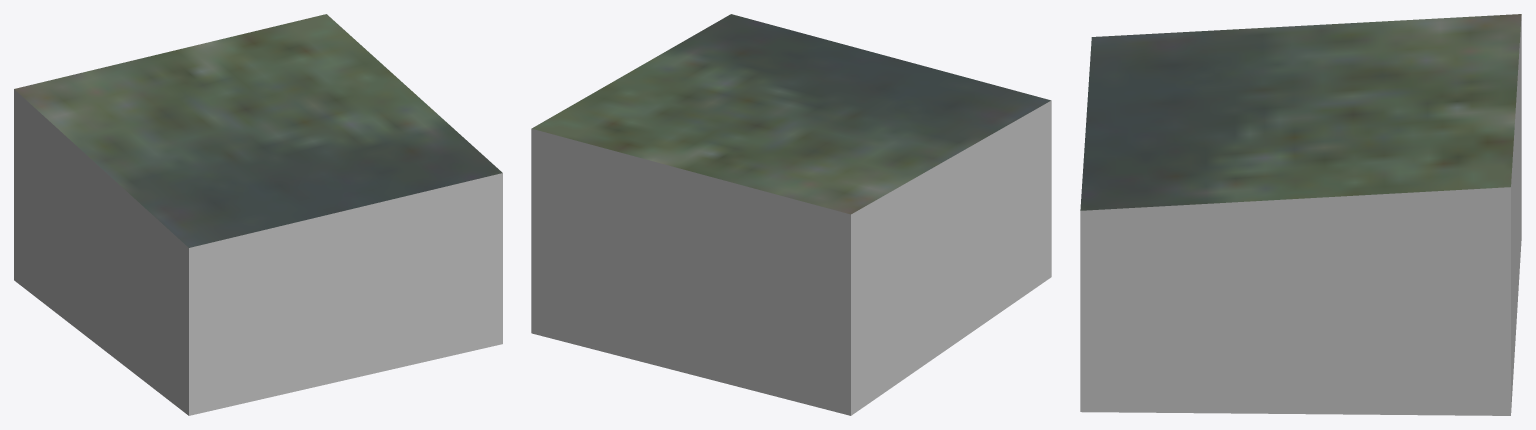
Rendered from DEBW_0010007Txf2.gltf.
3 renders of one model, left to right at view 1: azimuth 30°, elevation 25°; view 2: azimuth 150°, elevation 25°; view 3: azimuth 270°, elevation 25°, orthographic. The views are drawn at different scales.
Parts seen in each view (by area): view 1: Z_UP; view 2: Z_UP; view 3: Z_UP.
Boxes of the visible parts, x1,y1,x2,y2 form: Z_UP: (14,14,502,415); Z_UP: (531,14,1051,415); Z_UP: (1080,14,1521,415).
Size of the model in its own units: 5.66 by 3.33 by 5.82.
Materials: 2 (1 with a texture image).
